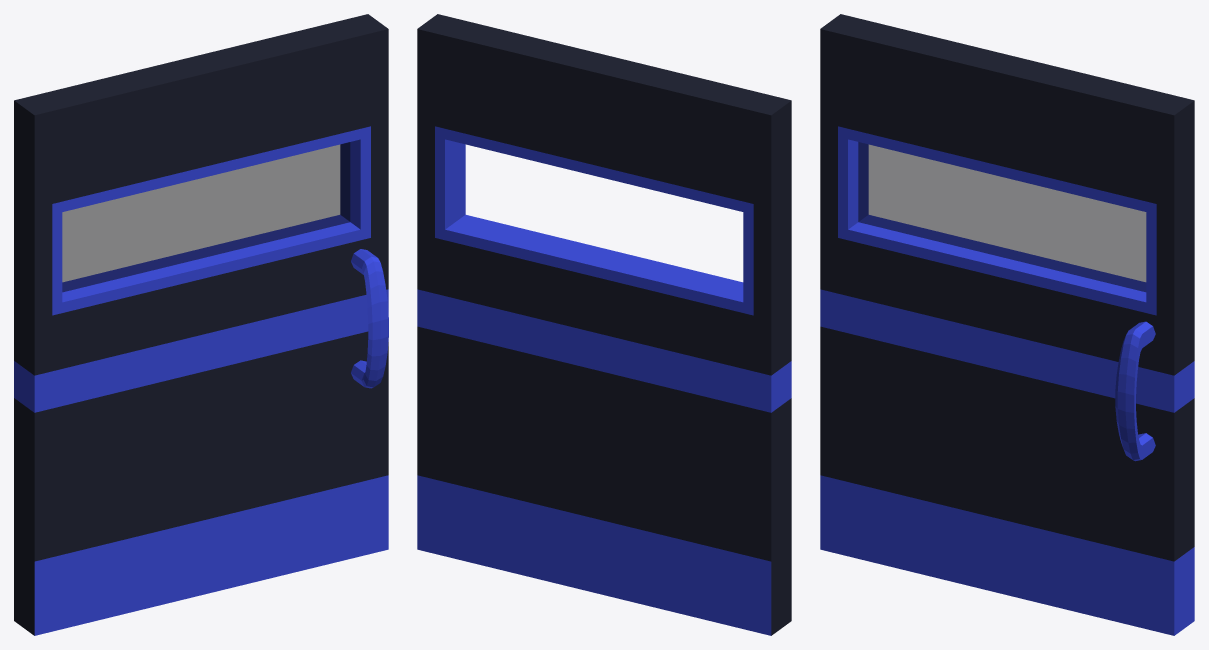
Rendered from Door.fbx.
3 views of the same model, side by side, from view 1: azimuth 30°, elevation 25°; view 2: azimuth 150°, elevation 25°; view 3: azimuth 330°, elevation 25° (orthographic).
Visible parts, largest first — view 1: Door_Closed.001; view 2: Door_Closed.001; view 3: Door_Closed.001.
Boxes of the visible parts, <box> form: Door_Closed.001: <box>14,14,388,635</box>; Door_Closed.001: <box>417,14,791,635</box>; Door_Closed.001: <box>820,14,1194,635</box>.
Size of the model in its own units: 99.66 by 140 by 20.02.
